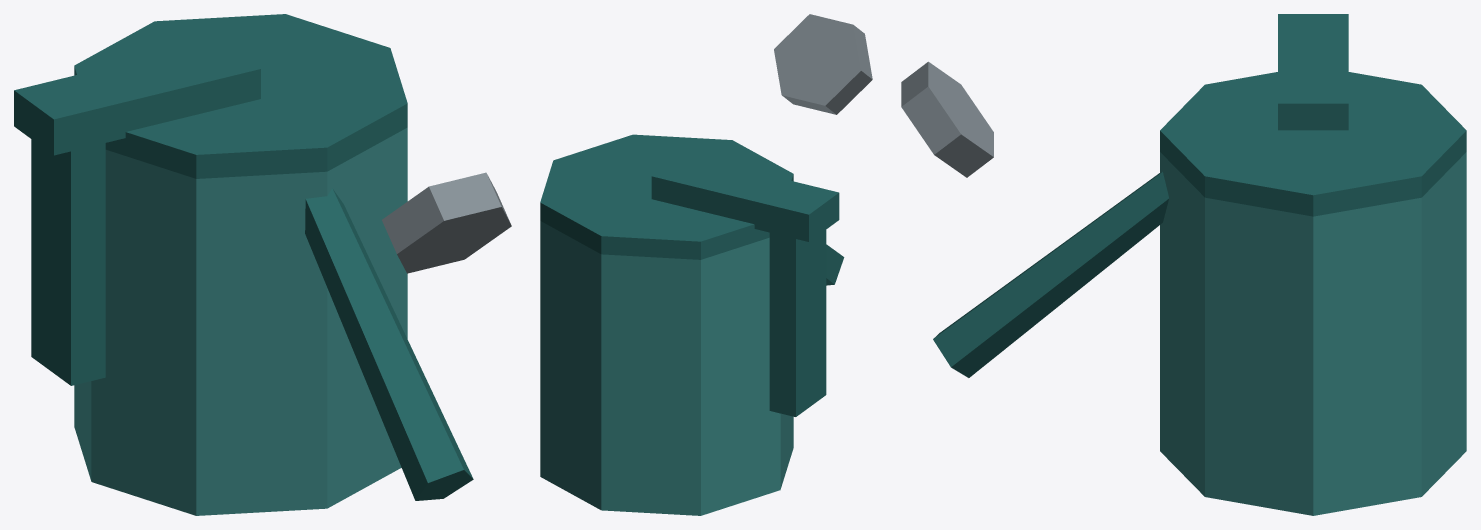
File: watering_can.glb
3 renders of one model, left to right at view 1: azimuth 30°, elevation 25°; view 2: azimuth 150°, elevation 25°; view 3: azimuth 270°, elevation 25°, orthographic. The views are drawn at different scales.
Parts seen in each view (by area): view 1: body; view 2: body; view 3: body.
Boxes of the visible parts, x1,y1,x2,y2 form: body: (14,14,511,515); body: (540,14,872,515); body: (901,14,1466,515).
Bounding box in the file's own units: 0.31 × 0.3528 × 0.4793.
